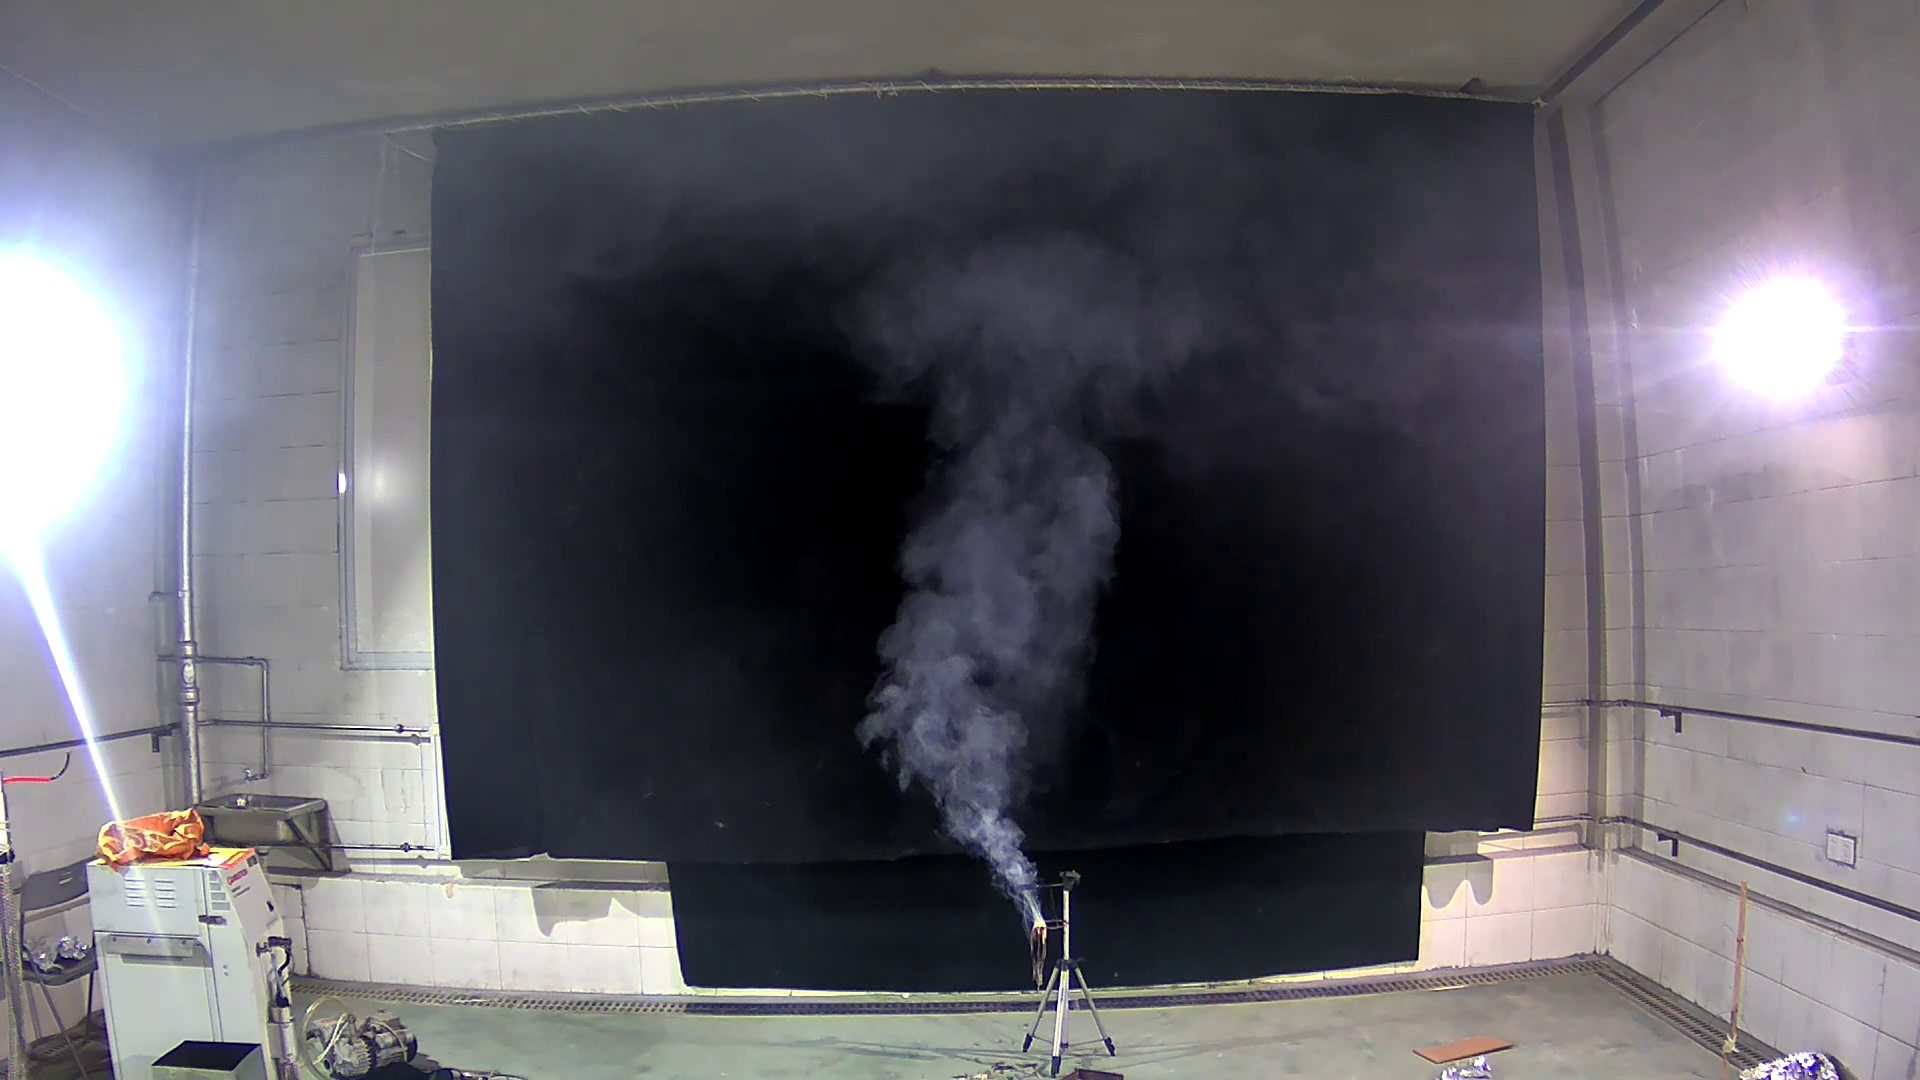smoke: (802, 200, 1218, 920)
